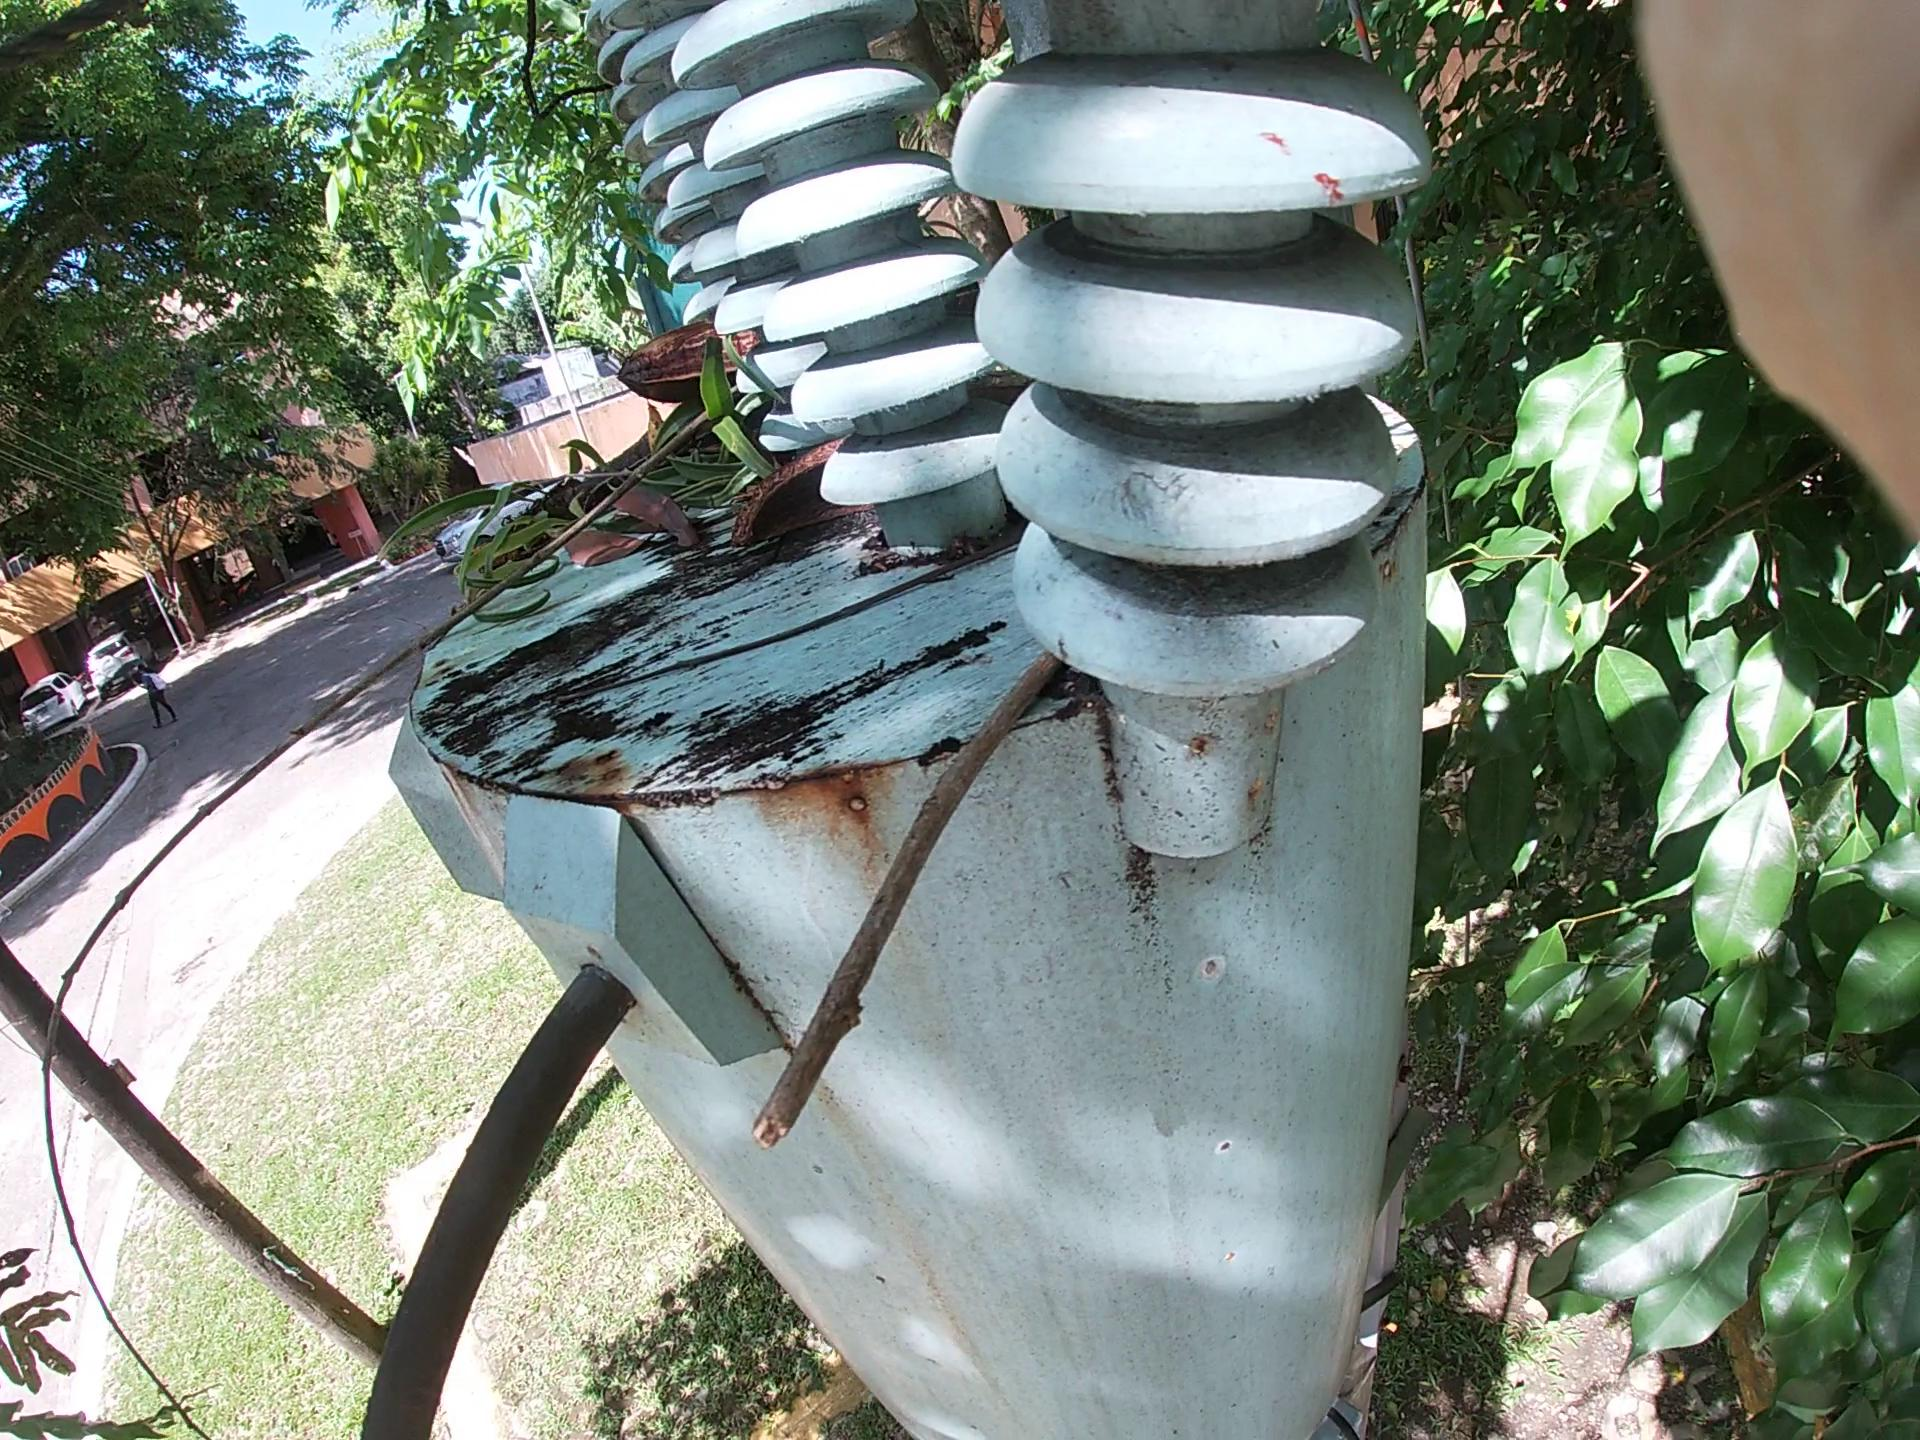branch with leaves: (398, 355, 763, 591)
leaf: (561, 466, 783, 585), (574, 466, 685, 569)
mahogany fruit: (717, 440, 924, 564), (597, 303, 750, 433)
tree branch: (98, 374, 757, 1023), (779, 650, 1081, 1151)
